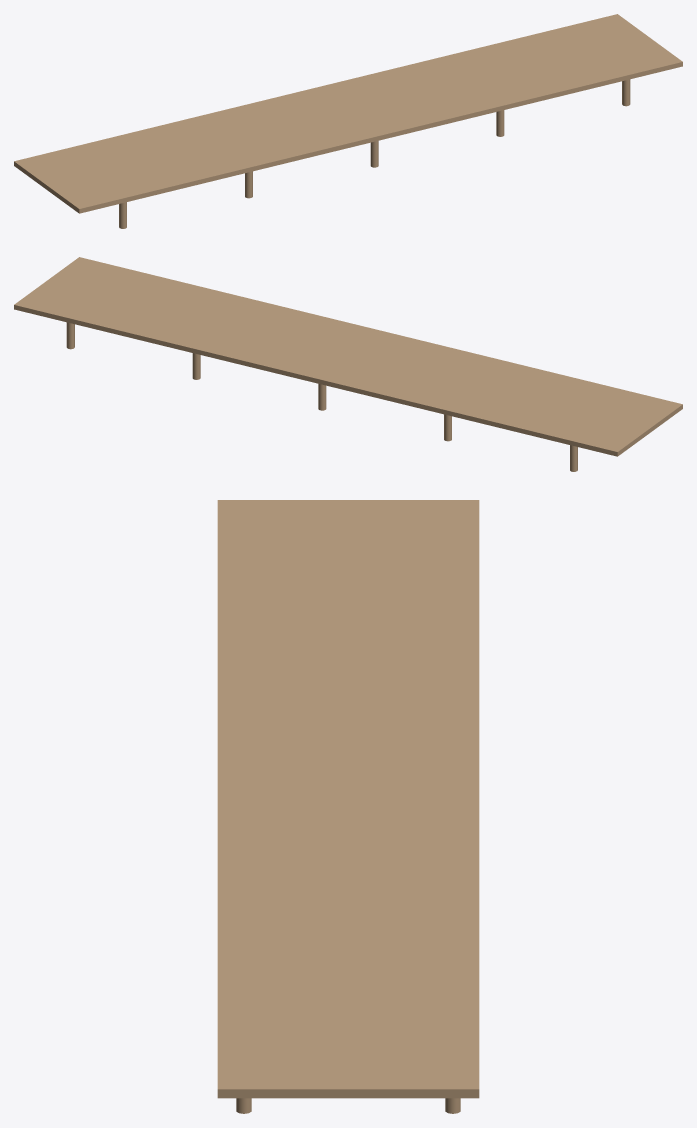
File: beach_pier.glb
3 renders of one model, top to bottom at view 1: azimuth 30°, elevation 25°; view 2: azimuth 150°, elevation 25°; view 3: azimuth 270°, elevation 25°, orthographic. The views are drawn at different scales.
Parts seen in each view (by area): view 1: PierRoot; view 2: PierRoot; view 3: PierRoot.
Boxes of the visible parts, box(x1,y1,x2,y2) form: PierRoot: box(14, 14, 682, 228); PierRoot: box(14, 257, 682, 471); PierRoot: box(217, 500, 479, 1113).
Size of the model in its own units: 48 by 2.67 by 9.
